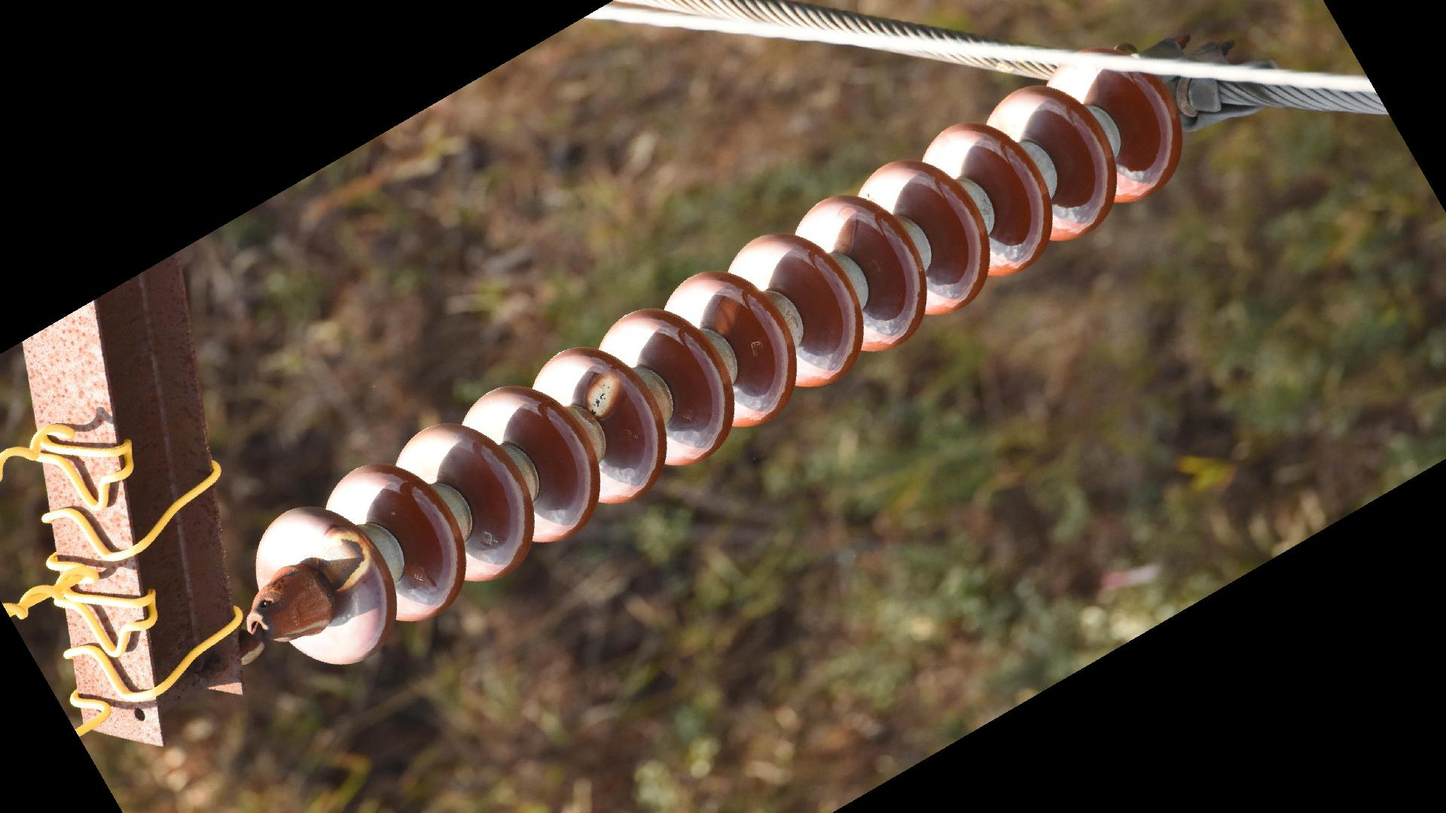insulator: (244, 43, 1191, 673)
insulator_flashover: (313, 534, 368, 592), (582, 367, 625, 417), (709, 285, 744, 336), (828, 205, 860, 254)
